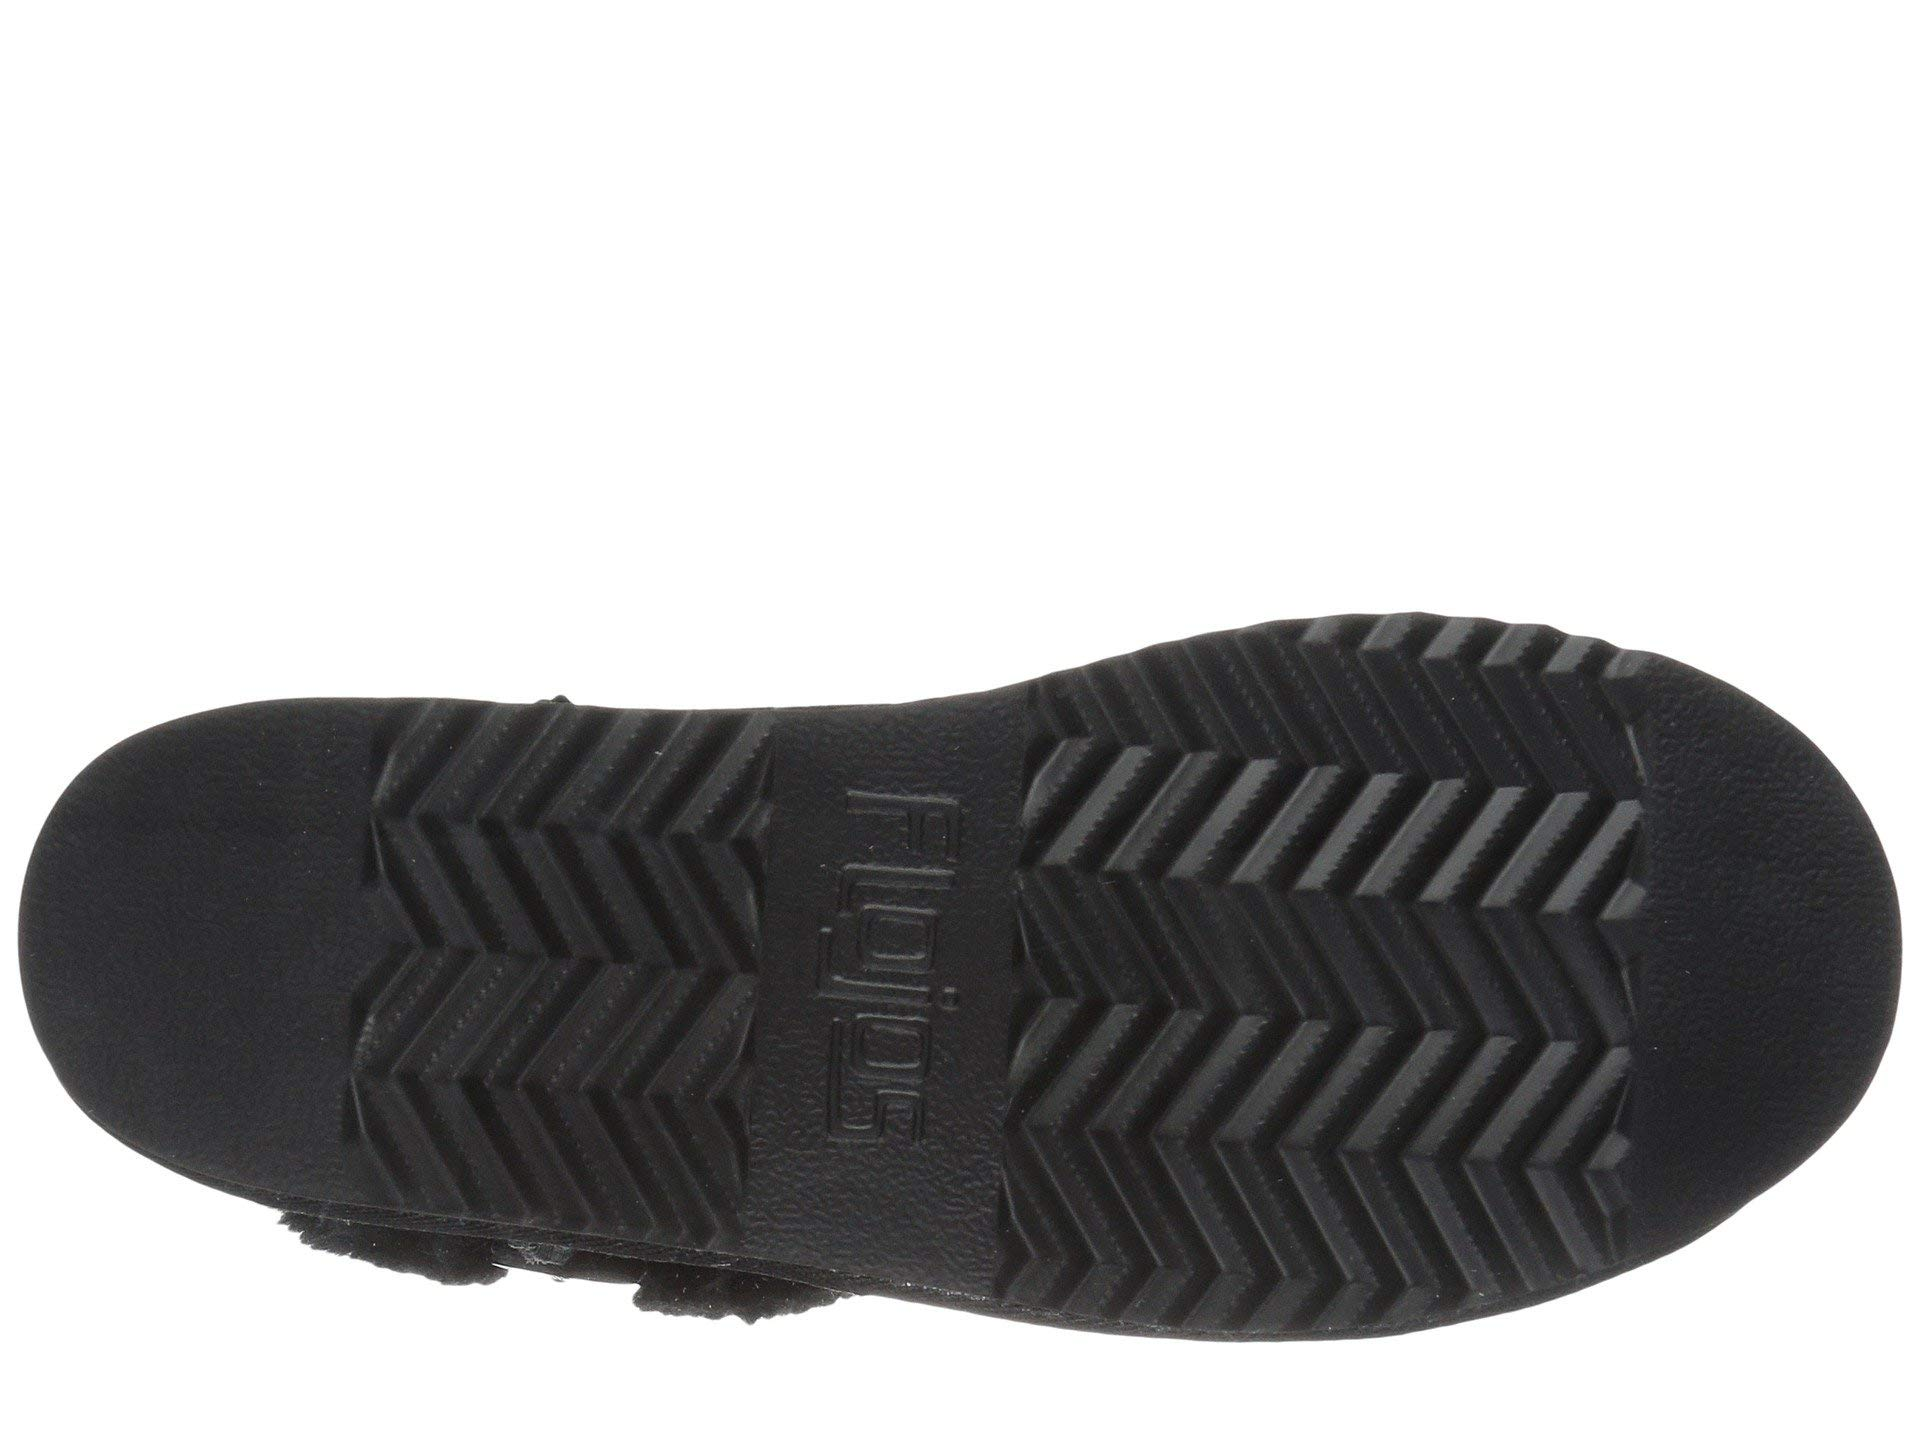chevron: (1134, 731, 1515, 1228), (739, 746, 1113, 1142), (440, 787, 732, 1077)
text: (739, 746, 1113, 1142)
